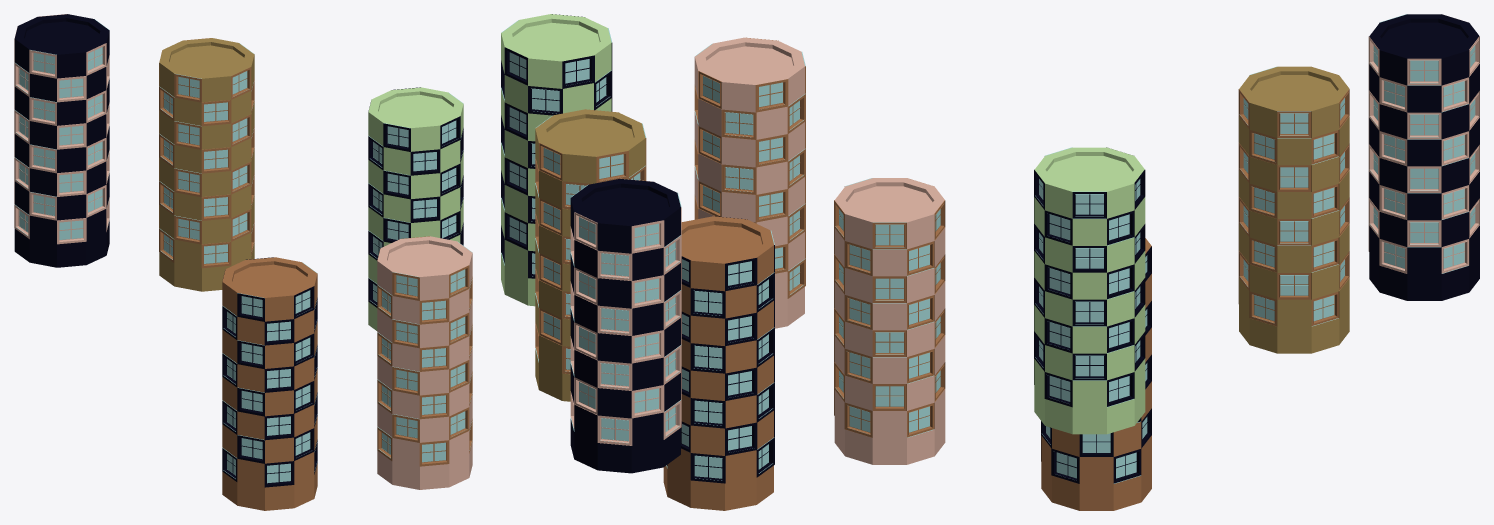
3 views of the same model, side by side, from view 1: azimuth 30°, elevation 25°; view 2: azimuth 150°, elevation 25°; view 3: azimuth 270°, elevation 25° (orthographic). The views are drawn at different scales.
Visible parts, largest first — view 1: Cylinder.004, Cylinder.002, Cylinder, Cylinder.003, Cylinder.001; view 2: Cylinder.004, Cylinder.002, Cylinder, Cylinder.001, Cylinder.003; view 3: Cylinder.001, Cylinder.003, Cylinder, Cylinder.004, Cylinder.002.
Boxes of the visible parts, x1,y1,x2,y2 form: Cylinder.004: [14, 14, 109, 267]; Cylinder.002: [222, 257, 317, 510]; Cylinder: [377, 236, 472, 489]; Cylinder.003: [159, 38, 254, 291]; Cylinder.001: [368, 87, 463, 330]; Cylinder.004: [570, 178, 681, 473]; Cylinder.002: [663, 216, 774, 510]; Cylinder: [694, 37, 805, 328]; Cylinder.001: [501, 14, 612, 306]; Cylinder.003: [535, 109, 646, 401]; Cylinder.001: [1034, 147, 1145, 434]; Cylinder.003: [1238, 66, 1349, 353]; Cylinder: [834, 178, 945, 464]; Cylinder.004: [1368, 14, 1479, 300]; Cylinder.002: [1041, 238, 1151, 510].
Size of the model in its own units: 6025 by 7338 by 10303.
